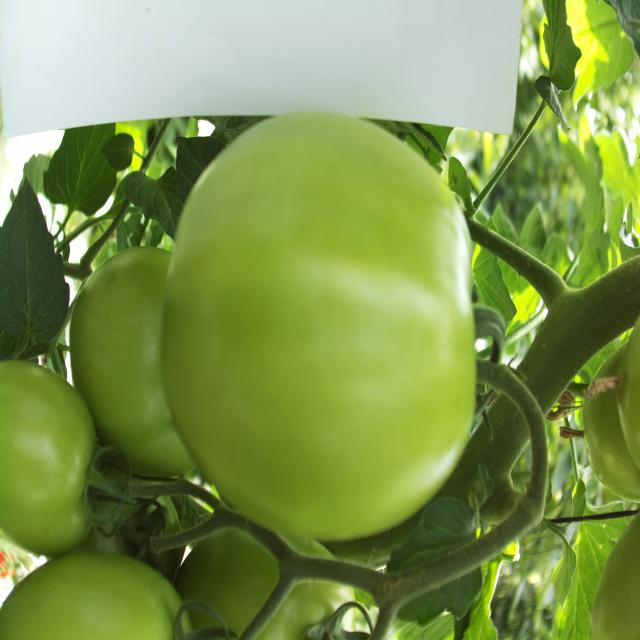yesil: (139, 105, 527, 556)
